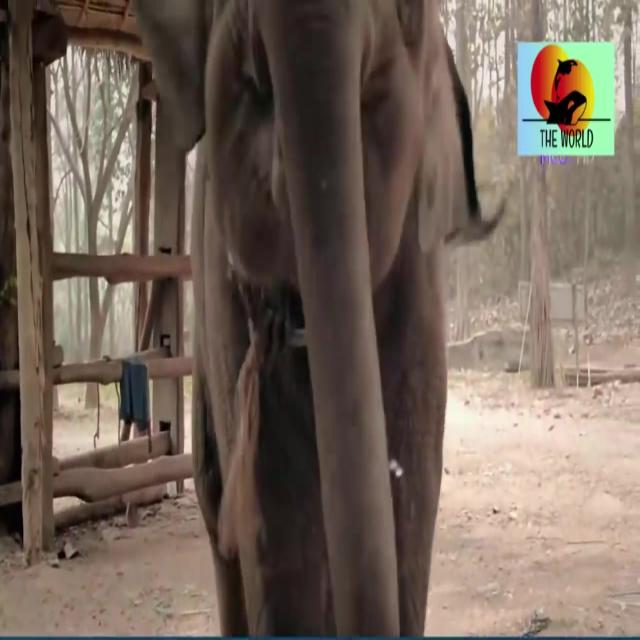Elephant: (162, 3, 459, 637)
